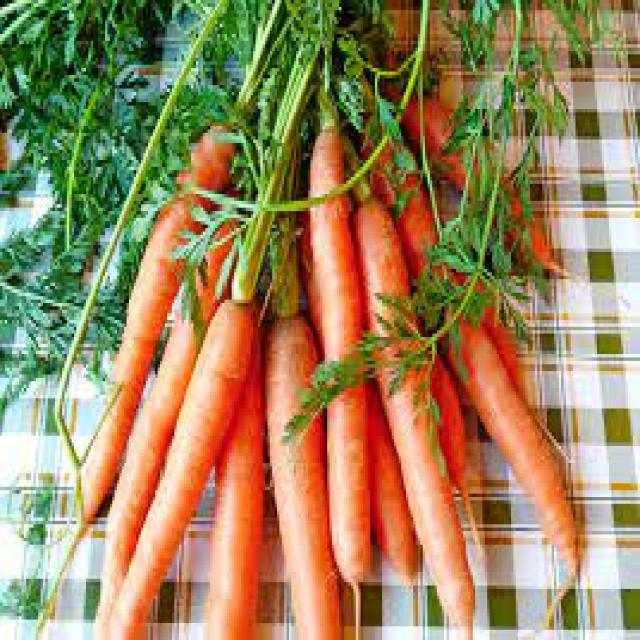Carrot: (308, 114, 372, 596)
